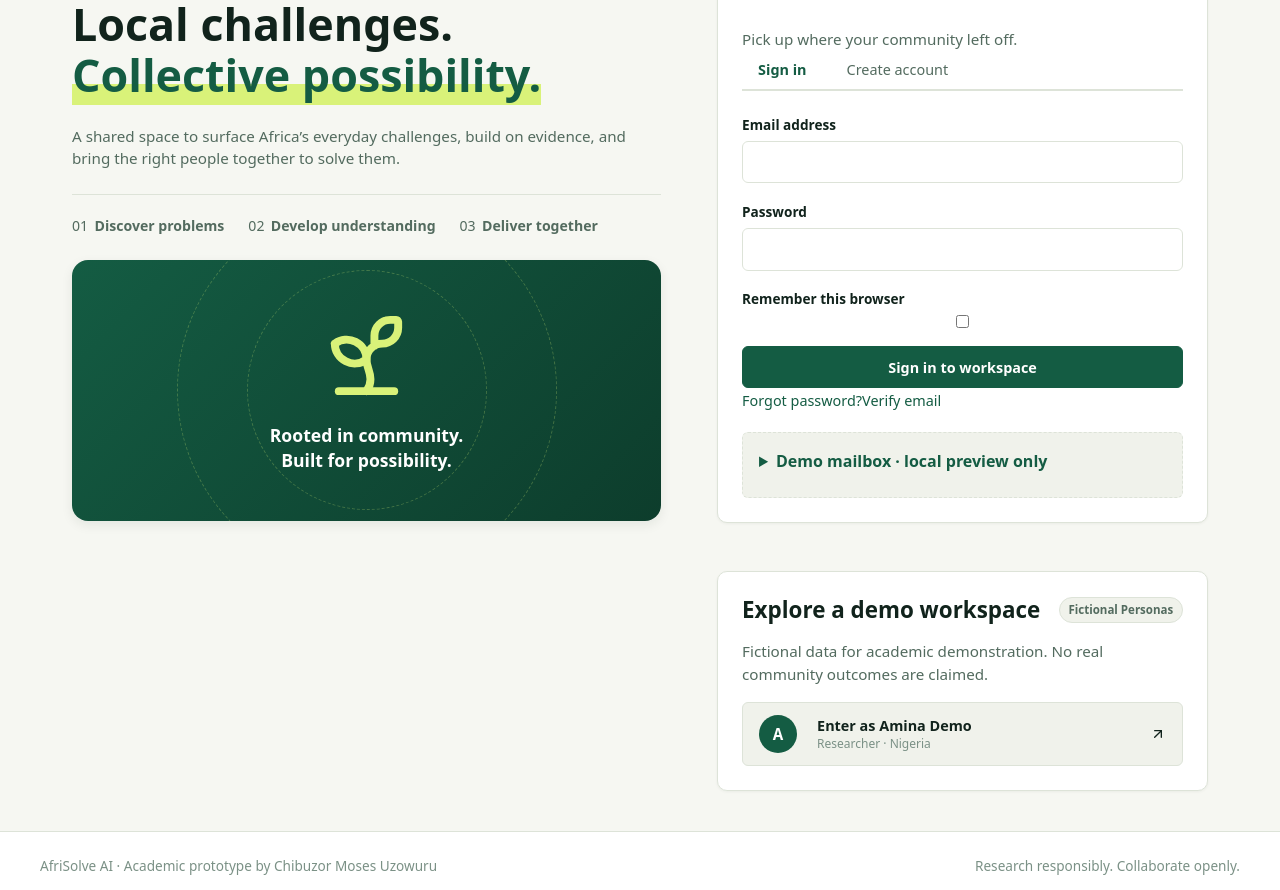
Scenario: fictional persona signs in explicitly and opens workspace
(page scrolled)
Click the button "A Enter as Amina Demo researcher · Nigeria" at (963, 734), box [742, 702, 1183, 766]
(page scrolled)
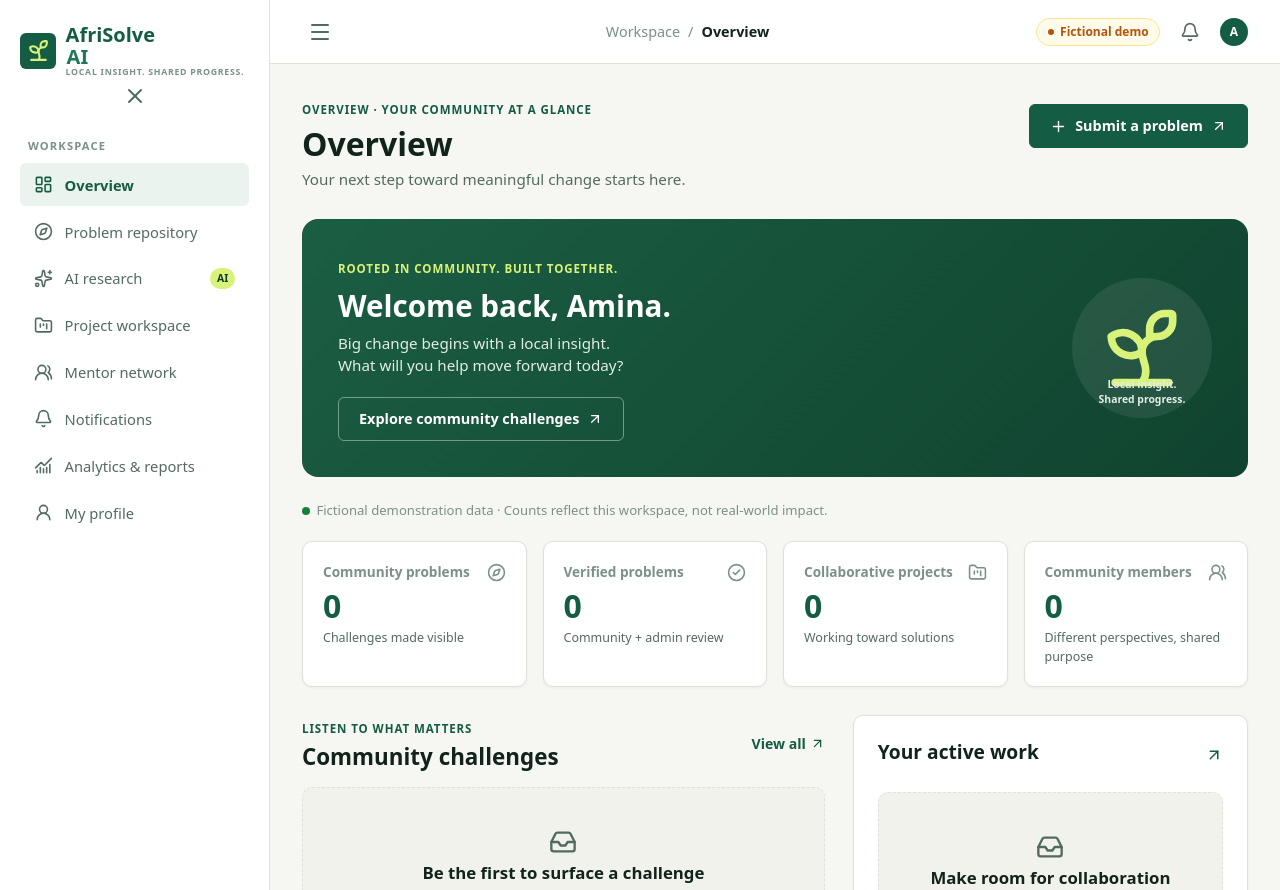
Expected: the heading "Overview" is shown, [302, 122, 453, 165]
Expected: the navigation bar "workspace" is shown, [20, 163, 249, 534]
